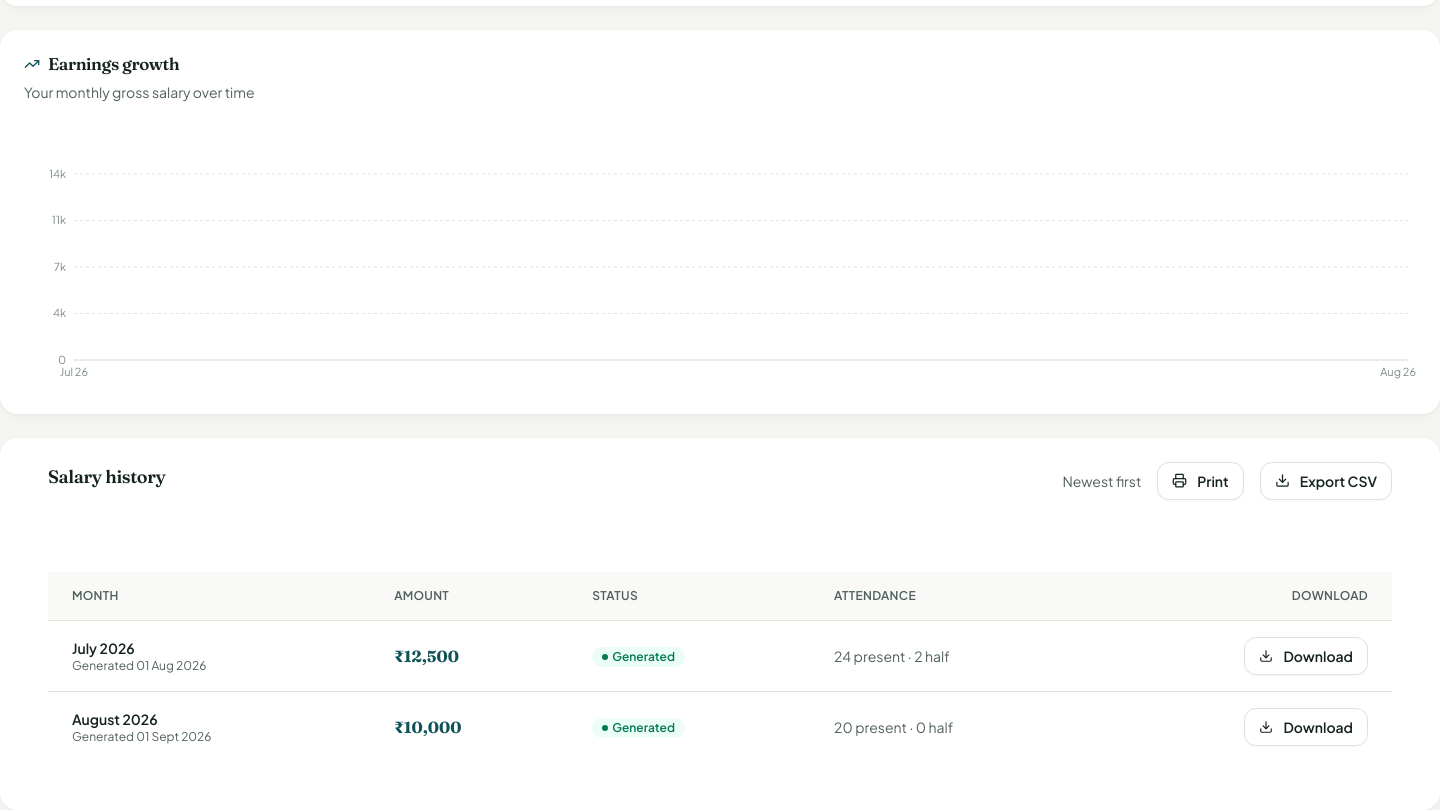
Test: MySalarySlips › re-downloads a slip from history using that row’s month/year
(page scrolled)
Expected: the text "July 2026" is shown, [72,639,135,657]
Click the button with test id "download-slip-7-2026" at point(1306, 656), box [1244,637,1368,675]
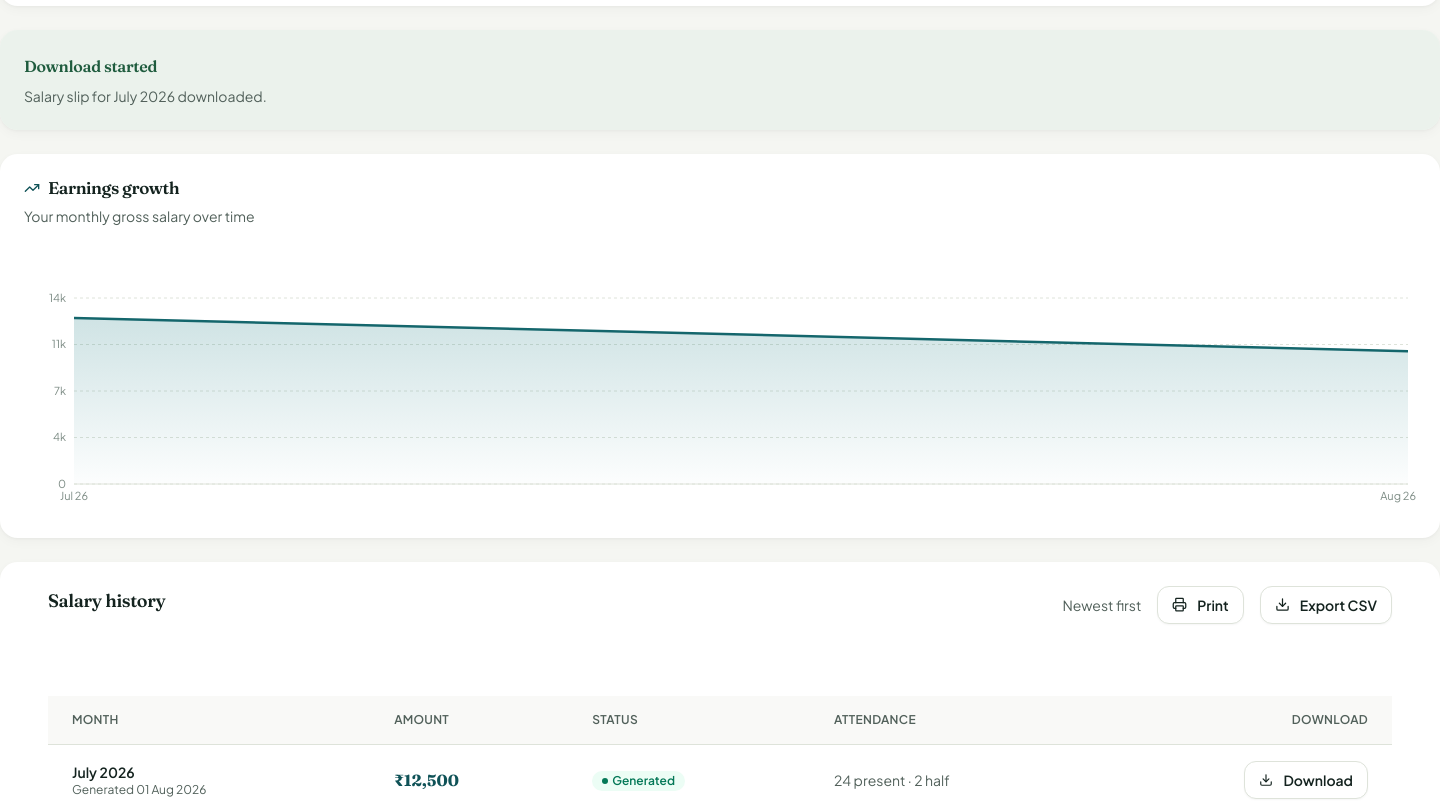
Expected: the text "Salary slip for July 2026 downloaded." is shown, [24,86,267,104]
